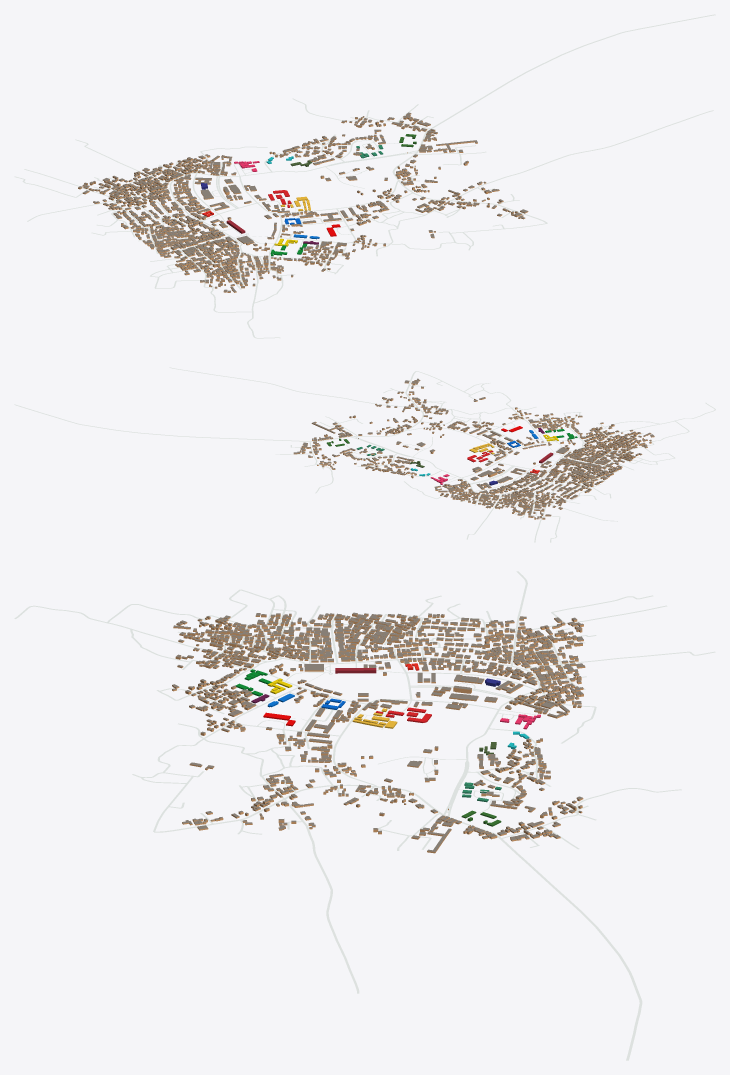
Rendered from map.glb.
3 views of the same model, one above another, from view 1: azimuth 30°, elevation 25°; view 2: azimuth 150°, elevation 25°; view 3: azimuth 270°, elevation 25° (orthographic). The views are drawn at different scales.
Visible parts, largest first — view 1: Amai Pakpak Avenue.001; view 2: Amai Pakpak Avenue.001, element.2165; view 3: Amai Pakpak Avenue.001.
Boxes of the visible parts, box(x1,y1,x2,y2) form: Amai Pakpak Avenue.001: box(416, 14, 715, 152); Amai Pakpak Avenue.001: box(14, 404, 353, 441); element.2165: box(169, 367, 417, 407); Amai Pakpak Avenue.001: box(444, 815, 642, 1060).
Size of the model in its own units: 196 by 1.51 by 119.
